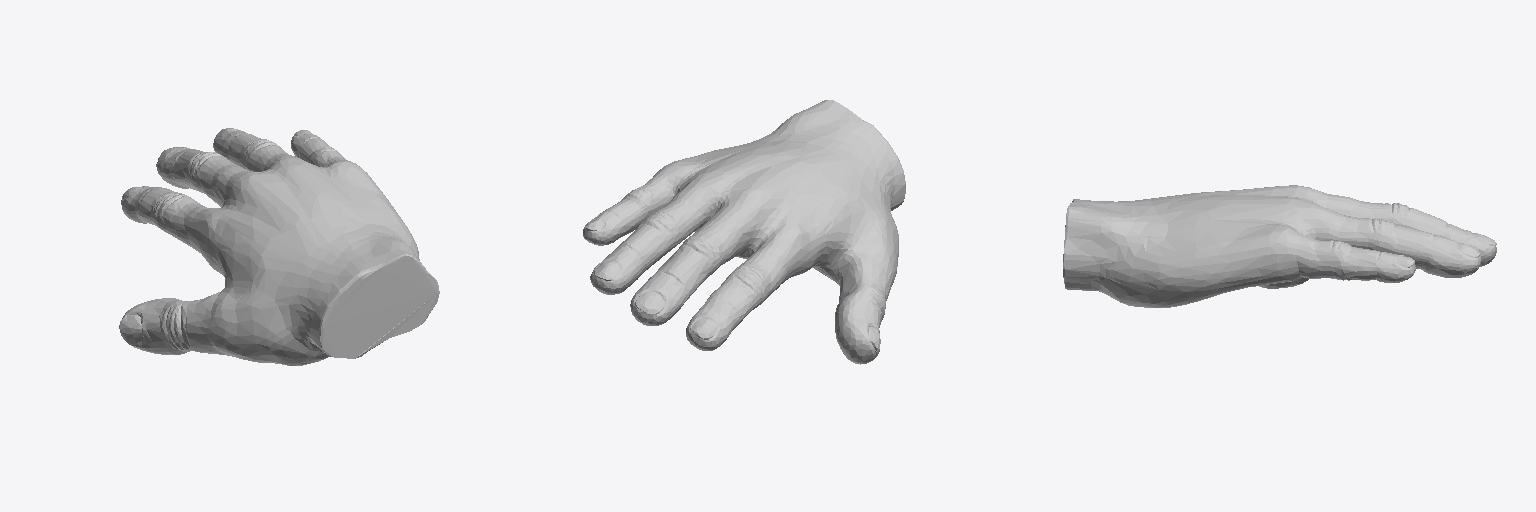
File: Mano.obj
3 renders of one model, left to right at view 1: azimuth 30°, elevation 25°; view 2: azimuth 150°, elevation 25°; view 3: azimuth 270°, elevation 25°, orthographic.
Visible parts, largest first — view 1: Mano_Mano.001; view 2: Mano_Mano.001; view 3: Mano_Mano.001.
Part boxes in pixels (bbox=[...]): Mano_Mano.001: bbox=[119, 128, 439, 365]; Mano_Mano.001: bbox=[583, 100, 905, 364]; Mano_Mano.001: bbox=[1063, 185, 1496, 307].
Size of the model in its own units: 54.31 by 32.12 by 82.98.